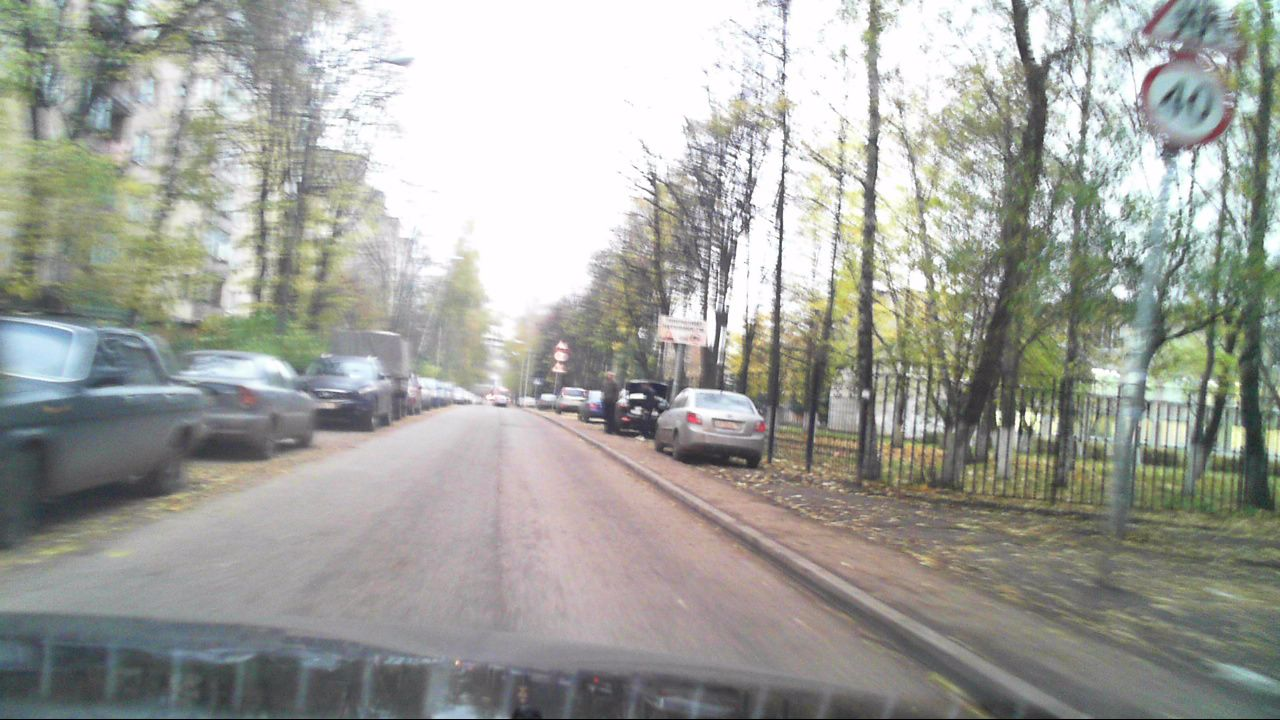speed_warning_40: (1138, 60, 1231, 150)
